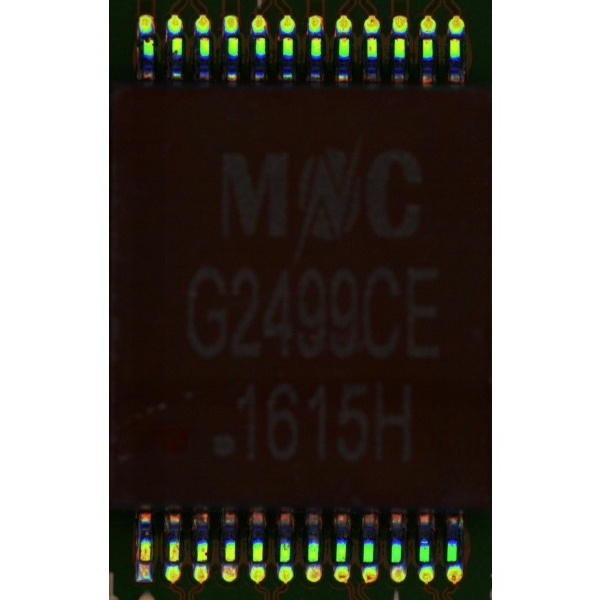Bad_podu: (139, 554, 149, 572), (225, 553, 233, 574)
